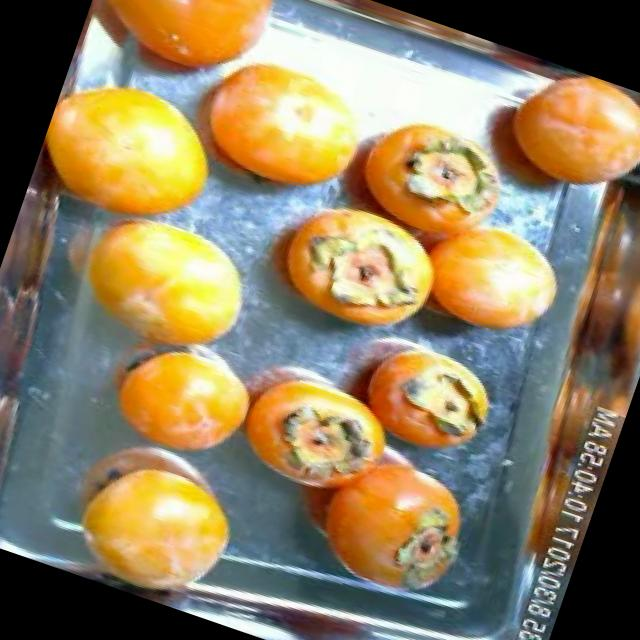Fruit: (152, 13, 392, 226), (38, 186, 282, 394), (32, 411, 270, 624), (29, 48, 254, 245), (451, 42, 640, 233), (81, 315, 278, 488), (316, 321, 518, 485), (408, 195, 588, 364)
